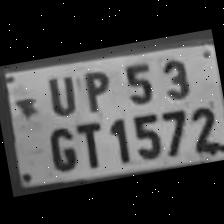1: (100, 111, 133, 166)
2: (182, 97, 222, 156)
3: (152, 51, 193, 101)
5: (115, 55, 159, 106), (124, 105, 164, 160)
7: (154, 103, 190, 158)
G: (40, 118, 80, 173)
P: (73, 62, 116, 114)
T: (70, 116, 107, 170)
U: (38, 67, 80, 117)
